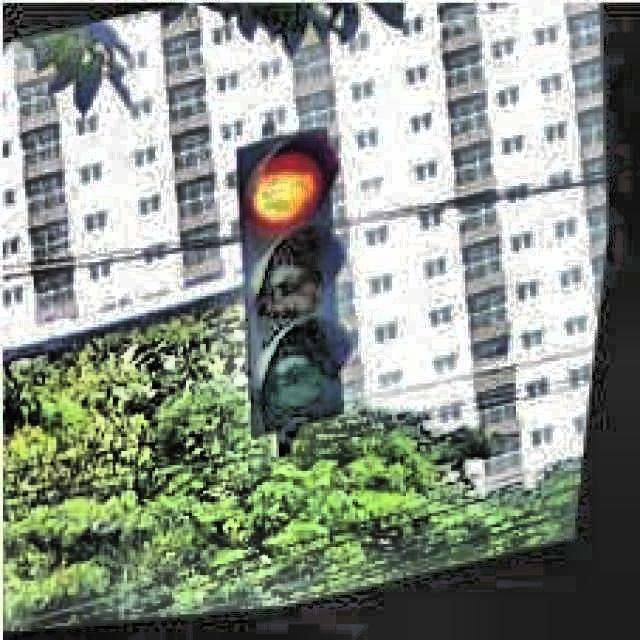red: (230, 133, 346, 427)
